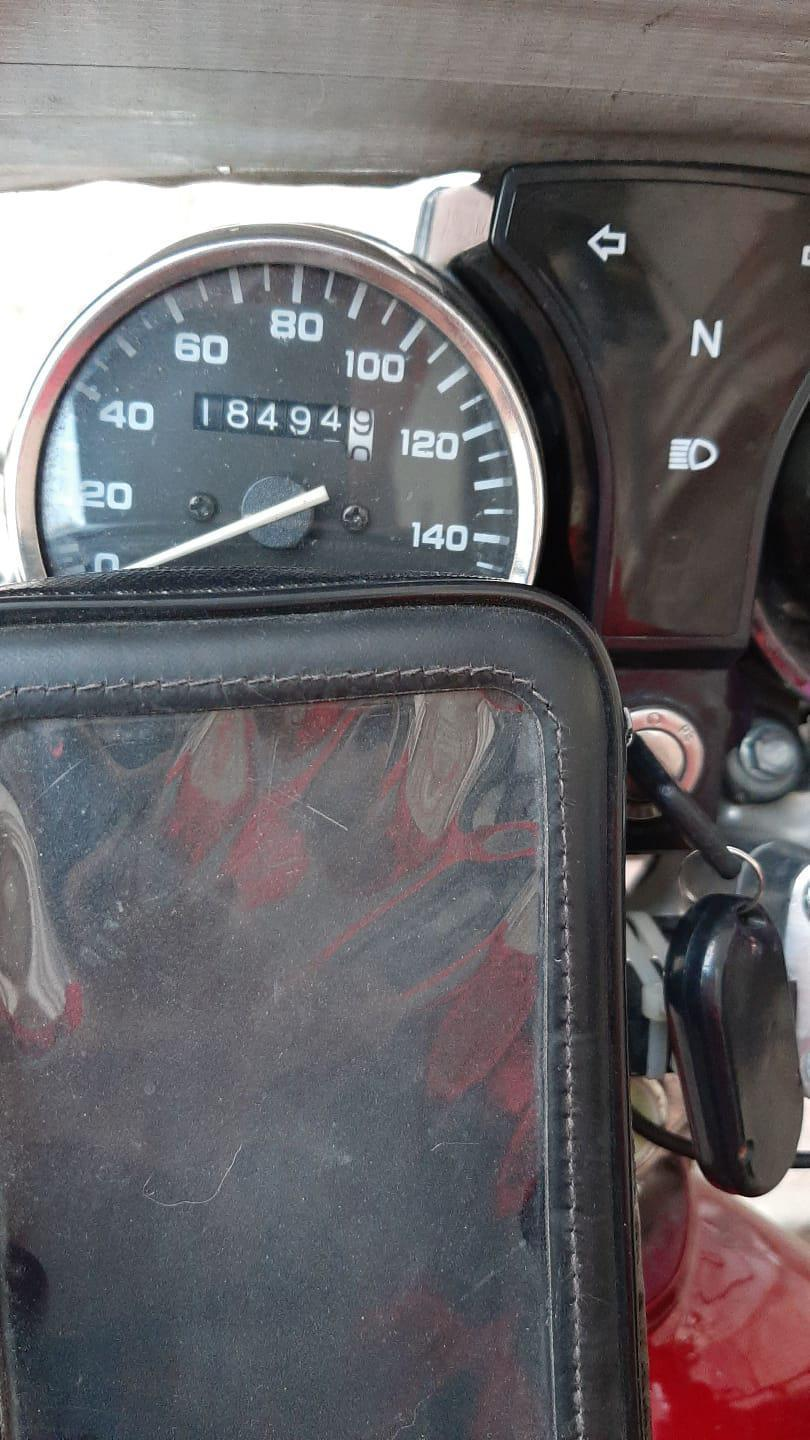1: (196, 393, 216, 431)
4: (255, 397, 282, 434), (319, 400, 343, 433)
8: (224, 398, 248, 430)
9: (346, 405, 374, 437), (287, 403, 312, 438)
odometer: (192, 387, 383, 463)
